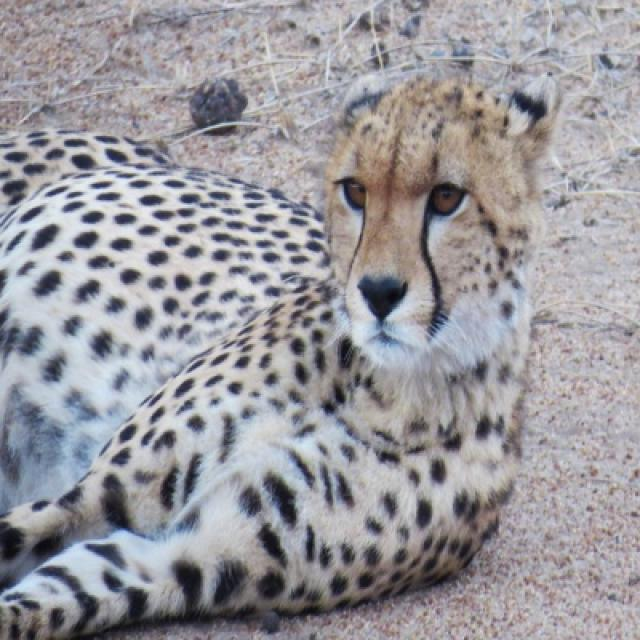Cheetah: (0, 77, 557, 638)
